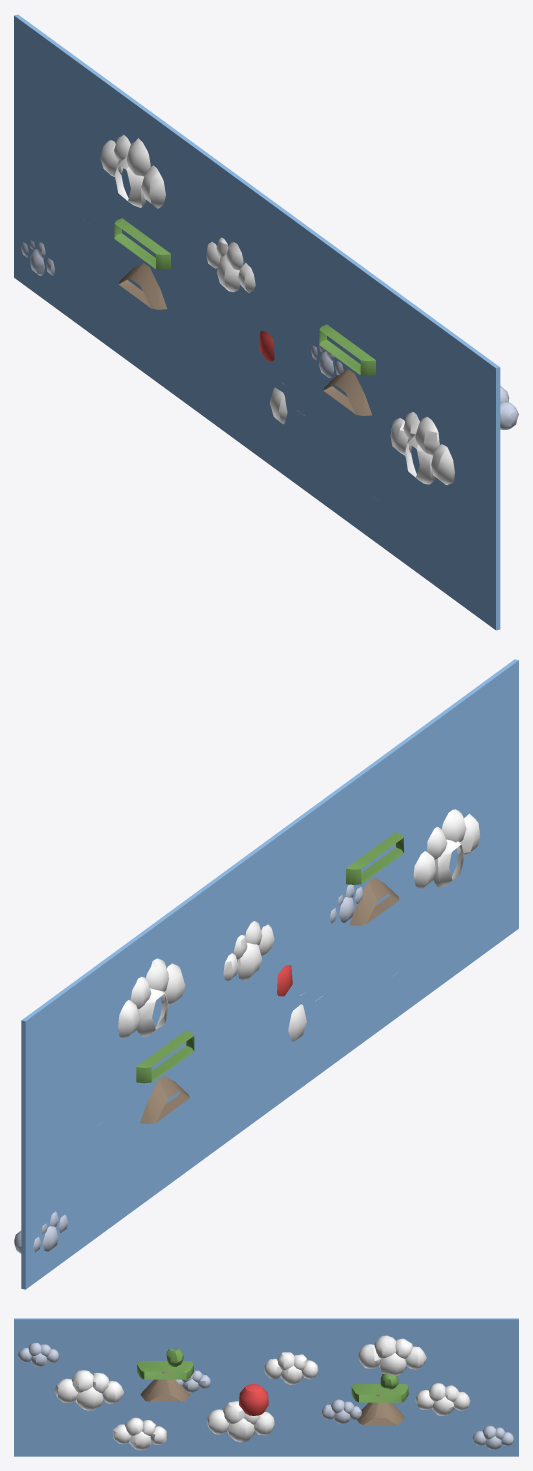
Rendered from BackdropSky.fbx.
3 views of the same model, one above another, from view 1: azimuth 30°, elevation 25°; view 2: azimuth 150°, elevation 25°; view 3: azimuth 270°, elevation 25° (orthographic). The views are drawn at different scales.
Parts seen in each view (by area): view 1: BackdropSky; view 2: BackdropSky; view 3: BackdropSky.
Boxes of the visible parts, x1,y1,x2,y2 form: BackdropSky: (14,14,518,630); BackdropSky: (14,659,518,1289); BackdropSky: (14,1318,518,1456).
Bounding box in the file's own units: 550 × 2400 × 8000.
